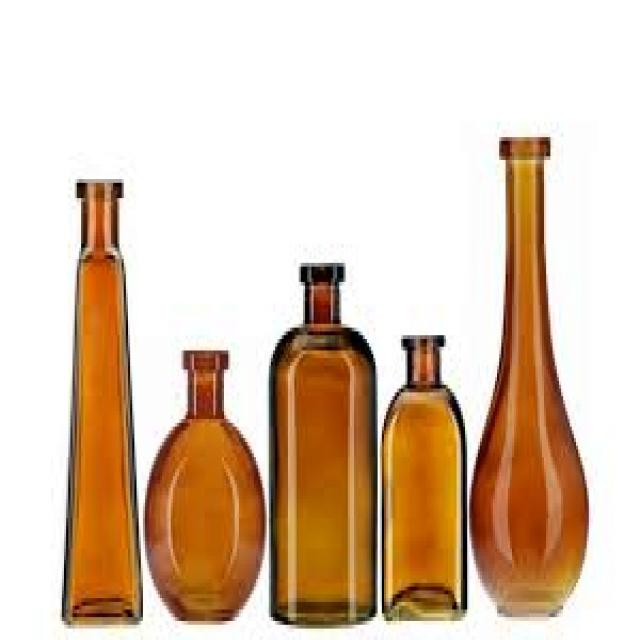Glass: (467, 126, 594, 623), (265, 249, 382, 634), (55, 169, 148, 629), (141, 342, 266, 629), (378, 329, 472, 626)
